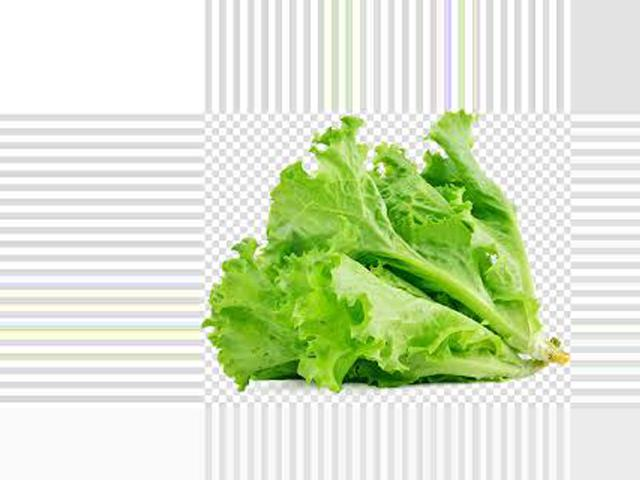lettuce: (206, 112, 570, 380)
